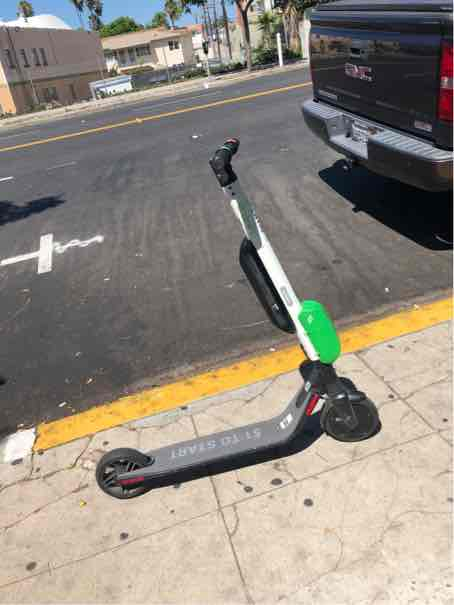scooter: (80, 129, 374, 497)
